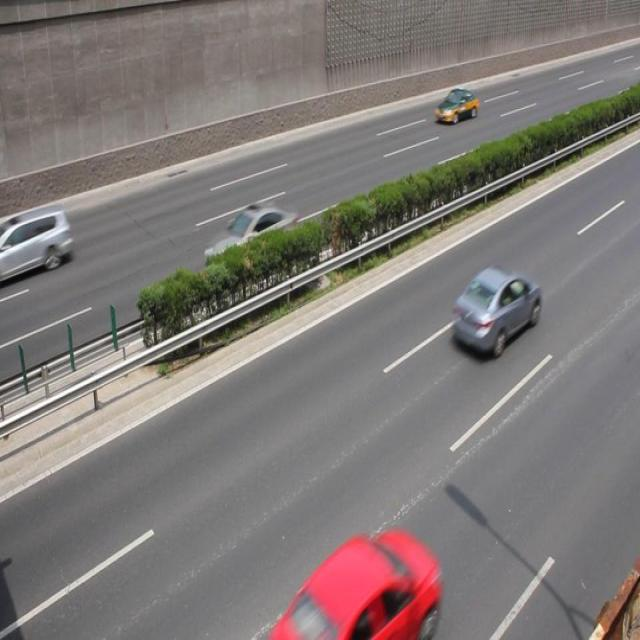car: (283, 525, 437, 629), (450, 263, 541, 357), (203, 202, 301, 286), (433, 89, 478, 126)
